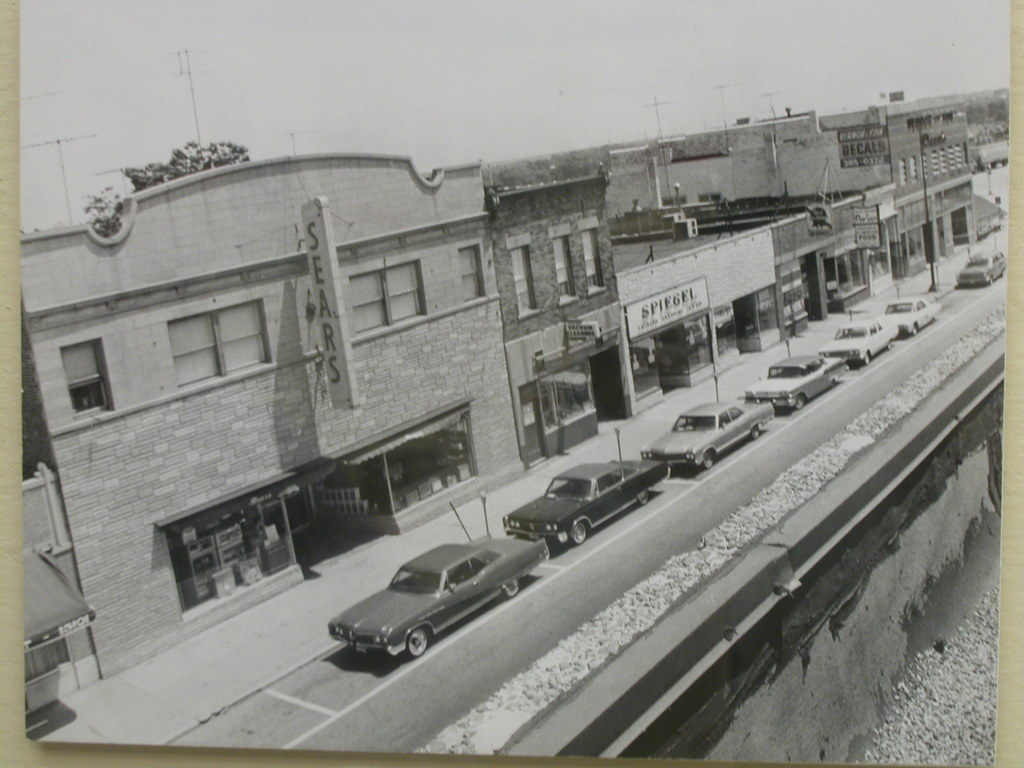Car: (320, 531, 573, 673), (499, 460, 669, 545), (638, 399, 773, 468), (743, 353, 849, 410), (816, 320, 897, 363), (880, 296, 942, 333), (954, 248, 1006, 284)
